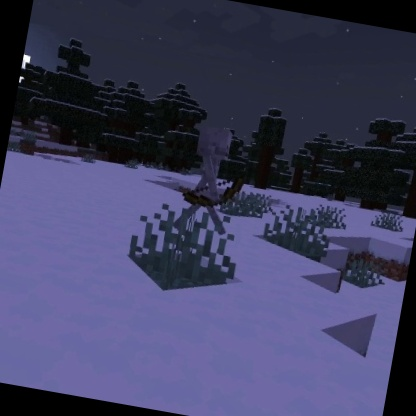skeleton: (171, 118, 256, 240)
